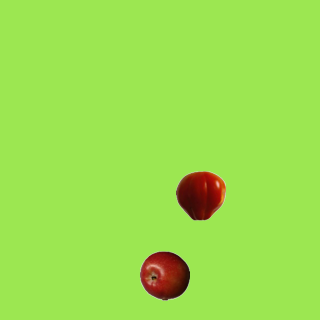Apple Braeburn: (139, 250, 189, 300)
Tomato 1: (175, 170, 225, 220)
